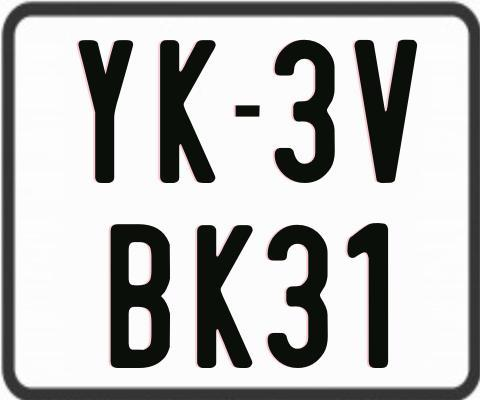1: (347, 220, 389, 370)
3: (274, 39, 337, 187), (267, 224, 327, 372)
B: (109, 221, 168, 369)
K: (159, 40, 220, 186), (194, 223, 251, 367)
V: (351, 37, 420, 181)
Y: (78, 38, 135, 182)
